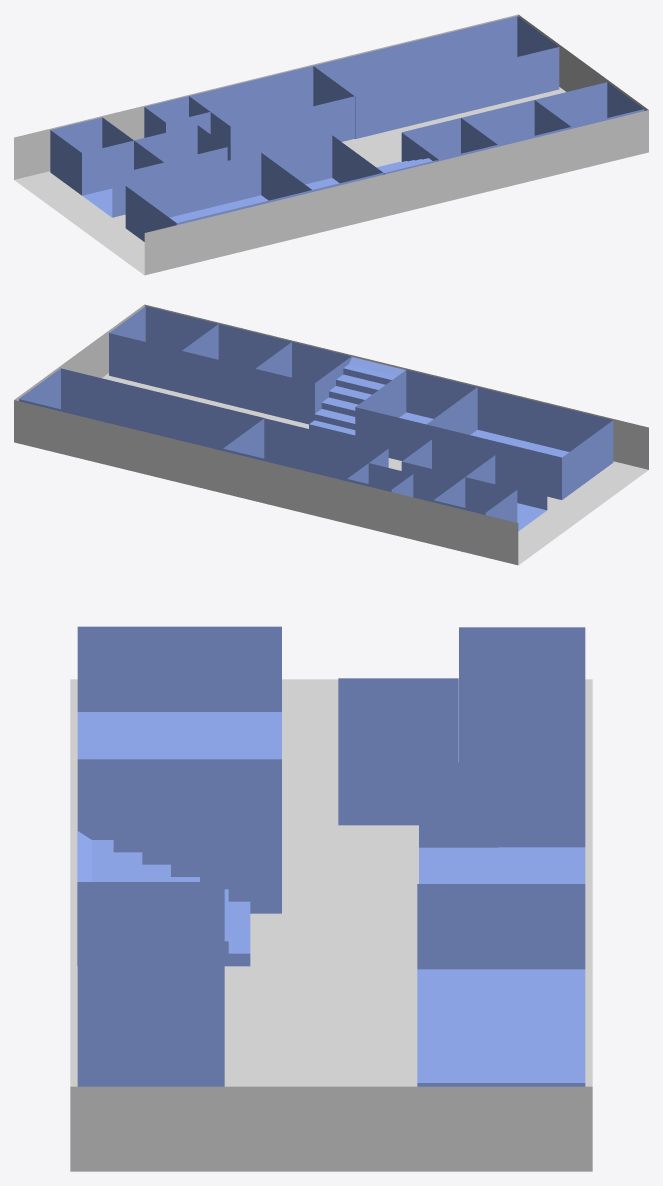
File: LANTAI_1.glb
3 views of the same model, one above another, from view 1: azimuth 30°, elevation 25°; view 2: azimuth 150°, elevation 25°; view 3: azimuth 270°, elevation 25° (orthographic). The views are drawn at different scales.
Visible parts, largest first — view 1: LANTAI_1, R9, DP, R4, R5, R1, R2, R6, R7, R8, R3, GV (+1 smaller); view 2: LANTAI_1, R4, R9, R5, R7, R8, R6, DP, R1, TANGGA, R3, R2 (+1 smaller); view 3: LANTAI_1, R9, R4, R5, DP, R6, R2, R7, R3, R1, TANGGA, GV.
Part boxes in pixels (left/top/right/bottom): LANTAI_1: left=14, top=14, right=648, bottom=275; R9: left=313, top=16, right=559, bottom=138; DP: left=189, top=66, right=354, bottom=160; R4: left=125, top=152, right=312, bottom=241; R5: left=261, top=135, right=383, bottom=200; R1: left=82, top=140, right=164, bottom=217; R2: left=50, top=117, right=133, bottom=195; R6: left=401, top=118, right=497, bottom=161; R7: left=461, top=100, right=571, bottom=146; R8: left=535, top=82, right=643, bottom=128; R3: left=134, top=125, right=227, bottom=175; GV: left=144, top=96, right=210, bottom=137; LANTAI_1: left=14, top=304, right=648, bottom=565; R4: left=426, top=387, right=613, bottom=499; R9: left=19, top=368, right=264, bottom=458; R5: left=355, top=369, right=477, bottom=460; R7: left=182, top=324, right=291, bottom=411; R8: left=109, top=306, right=217, bottom=393; R6: left=255, top=342, right=351, bottom=424; DP: left=222, top=418, right=388, bottom=483; R1: left=465, top=455, right=547, bottom=531; TANGGA: left=309, top=357, right=405, bottom=440; R3: left=401, top=439, right=494, bottom=502; R2: left=433, top=477, right=517, bottom=522; LANTAI_1: left=70, top=679, right=592, bottom=1171; R9: left=417, top=884, right=585, bottom=1086; R4: left=77, top=626, right=281, bottom=759; R5: left=77, top=759, right=281, bottom=913; DP: left=419, top=762, right=585, bottom=883; R6: left=77, top=882, right=224, bottom=1011; R2: left=459, top=627, right=585, bottom=762; R7: left=77, top=1012, right=224, bottom=1082; R3: left=338, top=740, right=458, bottom=825; R1: left=338, top=678, right=458, bottom=740; TANGGA: left=77, top=831, right=250, bottom=966; GV: left=498, top=718, right=585, bottom=847.
Bounding box in the file's own units: 4.47 × 0.3642 × 2.
